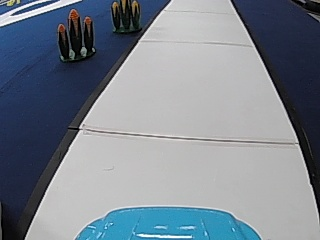corn: (57, 7, 97, 61), (108, 0, 142, 33)
